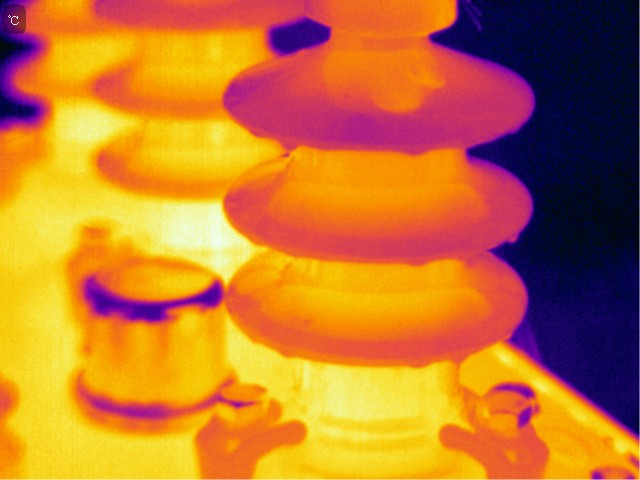Oil: (364, 40, 449, 115), (452, 344, 474, 370), (276, 134, 297, 154), (405, 255, 435, 269), (502, 228, 522, 245), (277, 347, 300, 361), (404, 146, 432, 157), (409, 359, 431, 371)
